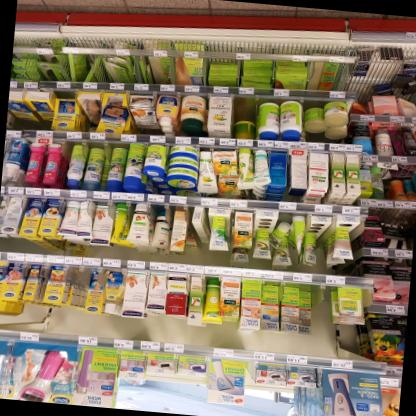empty_space: (234, 98, 257, 121)
